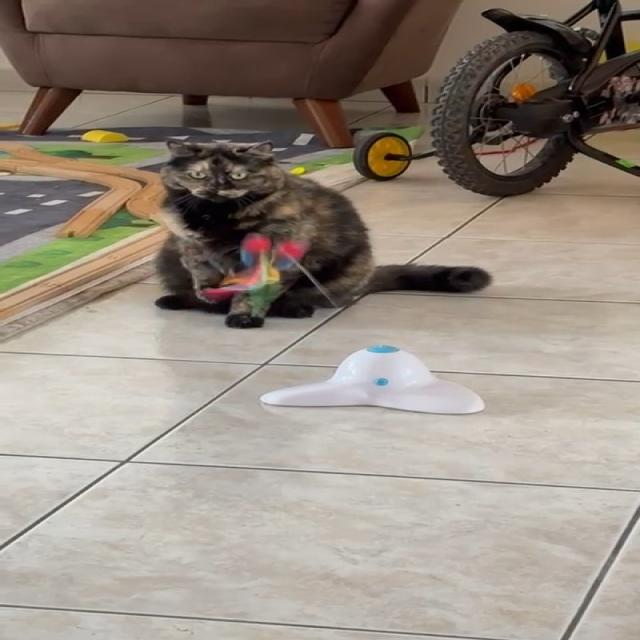authorized: (152, 137, 492, 326)
